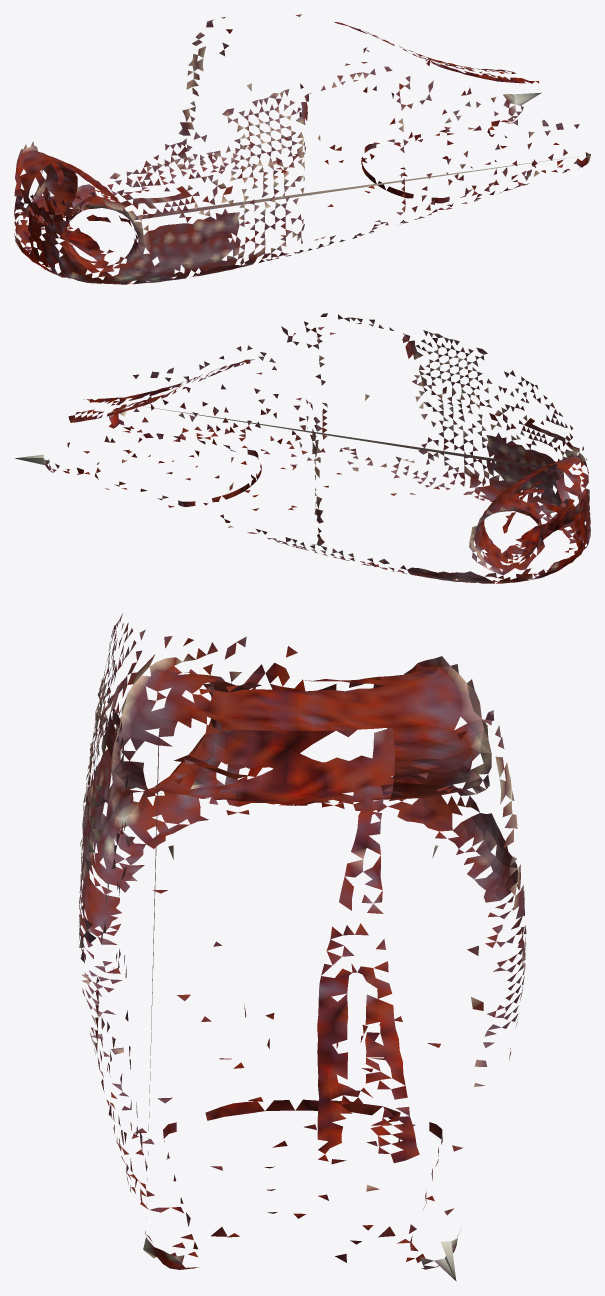
Rendered from whistle_final200.obj.
3 renders of one model, top to bottom at view 1: azimuth 30°, elevation 25°; view 2: azimuth 150°, elevation 25°; view 3: azimuth 270°, elevation 25°, orthographic. The views are drawn at different scales.
Size of the model in its own units: 2.01 by 0.5709 by 0.742.
